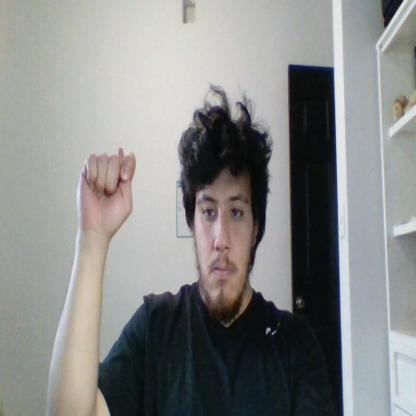T: (77, 146, 136, 234)
